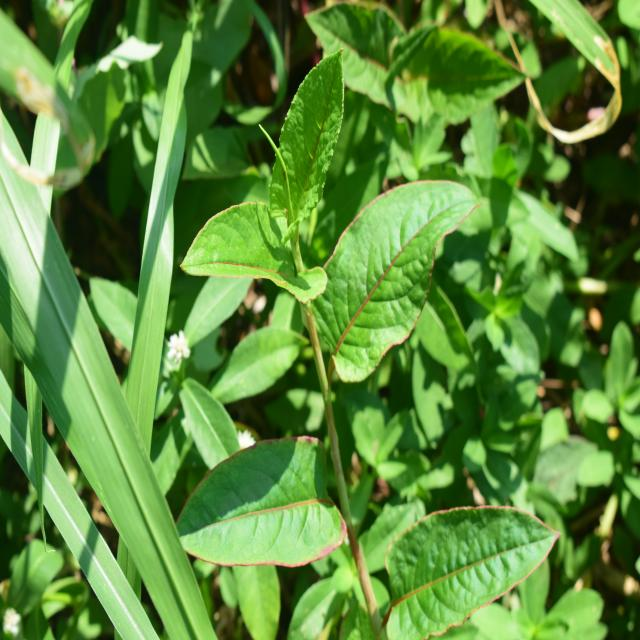Chinese_knotweed: (218, 93, 452, 413)
